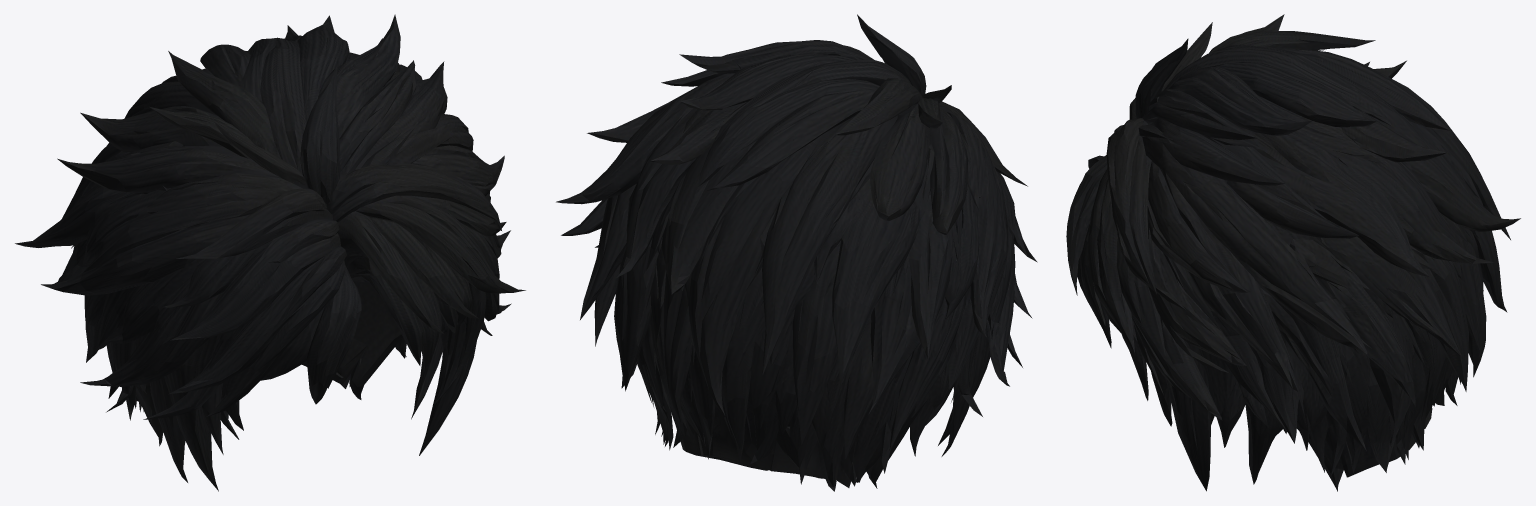
Rendered from hair_01.glb.
The picture shows the model from 3 angles, left to right: view 1: azimuth 30°, elevation 25°; view 2: azimuth 150°, elevation 25°; view 3: azimuth 270°, elevation 25°; orthographic projection. The views are drawn at different scales.
Visible parts, largest first — view 1: HAIR; view 2: HAIR; view 3: HAIR.
Part boxes in pixels (bbox=[...]): HAIR: bbox=[15, 14, 525, 491]; HAIR: bbox=[556, 14, 1037, 491]; HAIR: bbox=[1066, 14, 1520, 491].
Bounding box in the file's own units: 0.4293 × 0.396 × 0.3982.
Materials: 1 (1 with a texture image).
